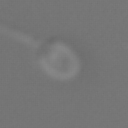normal: (1, 20, 46, 51)
